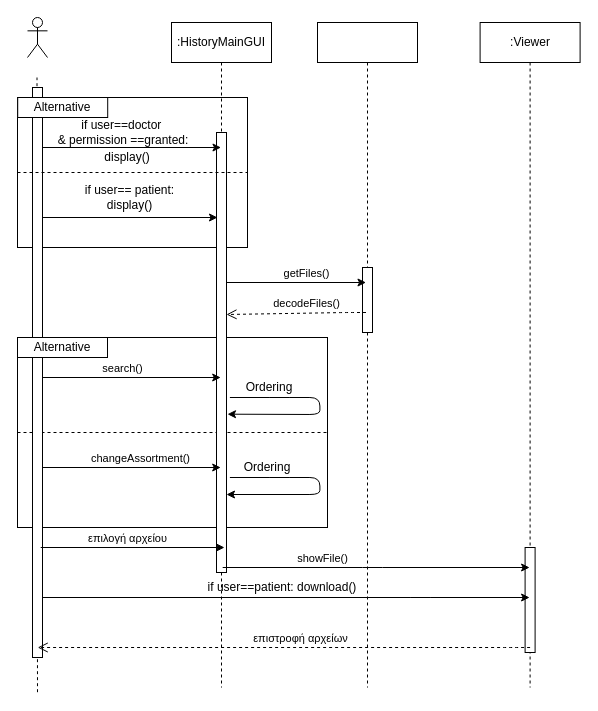
The diagram is 598 pixels wide and 711 high, and some of its shapes have lost their labels. The shapes that lost their labels are listed below. From the top down, each one's centre as x and y in pixels, then its label:
At [37,37]: "User".
At [367,355]: ":PatientFile".
